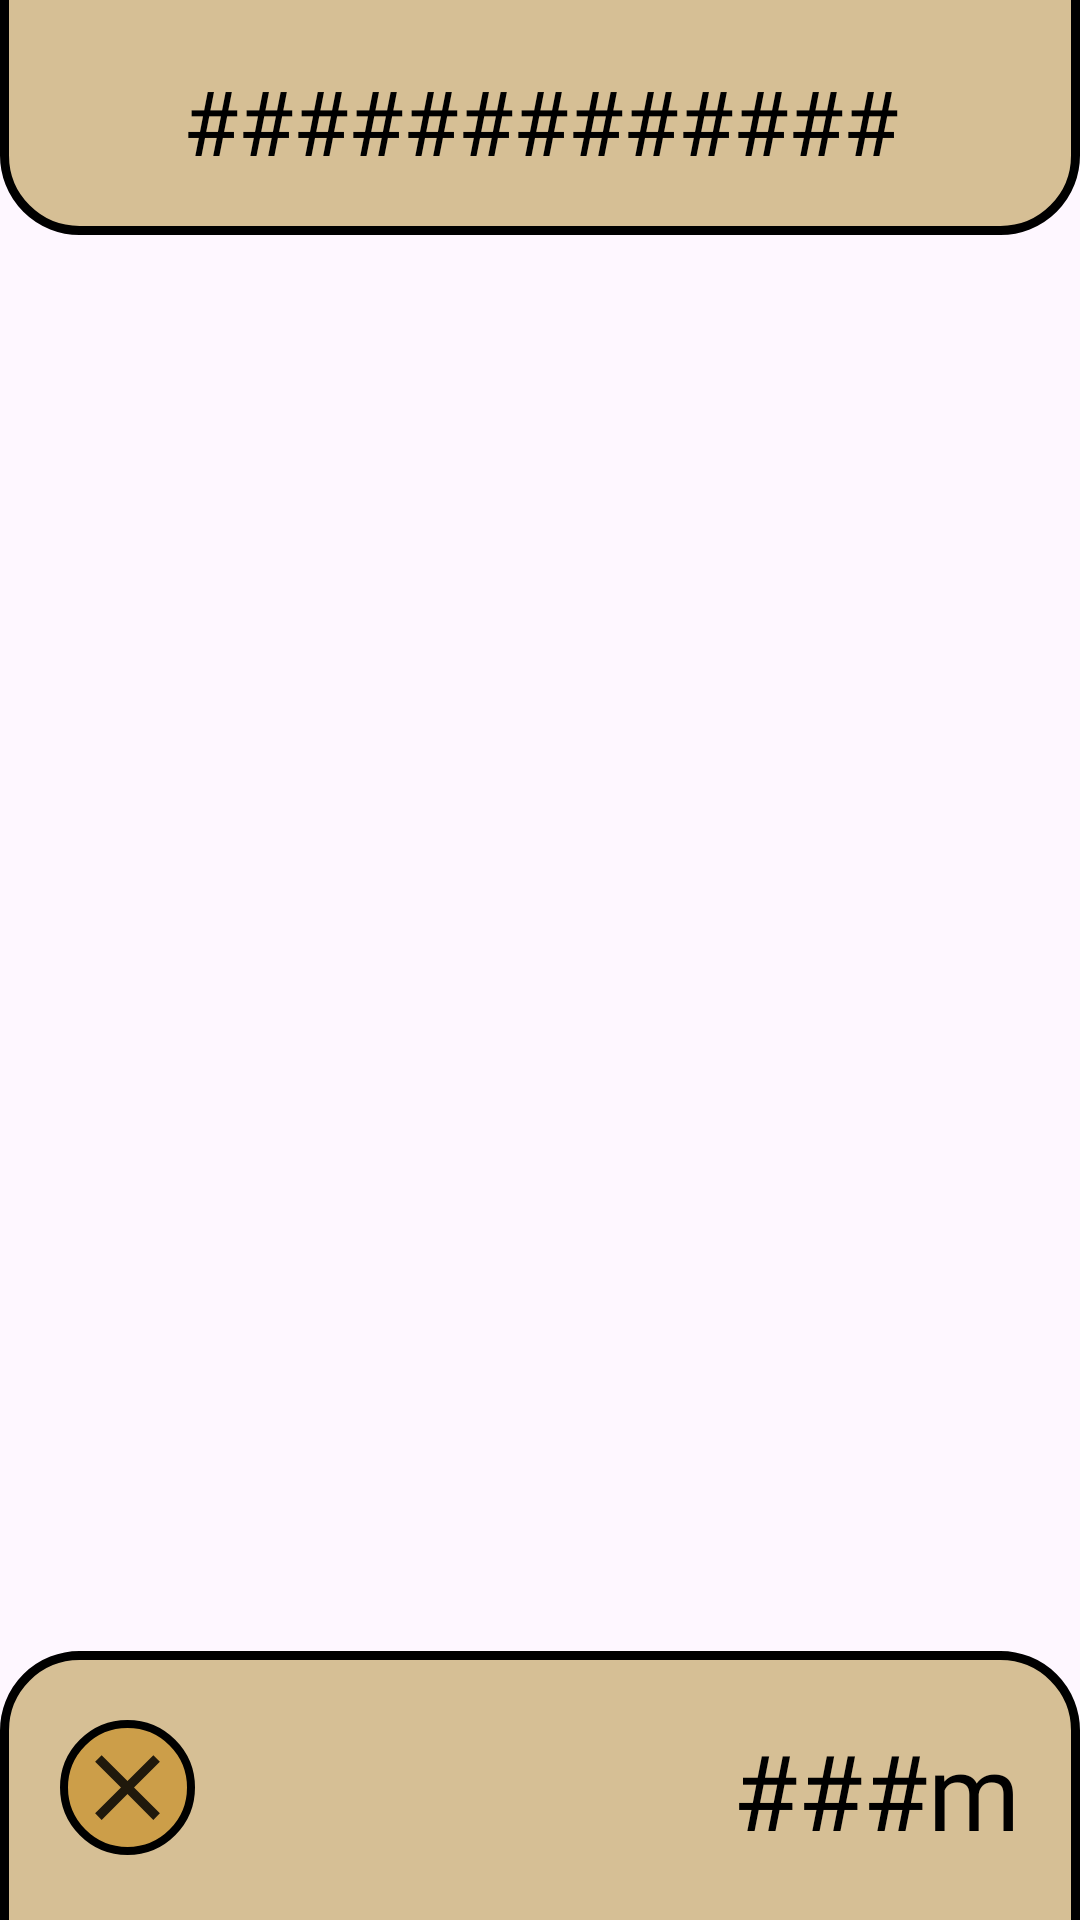

Named icons in this screenshot (1080px x 1920px) and their centers, [x,y]:
close: [127,1787]
